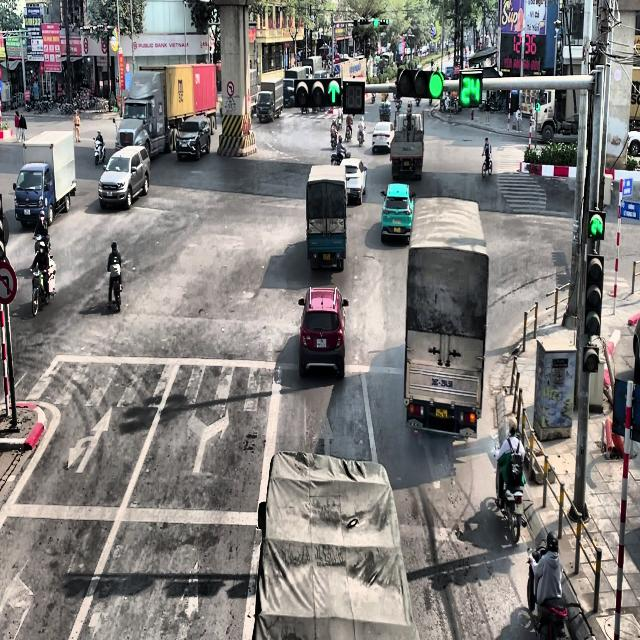lisence_plate: (434, 406, 448, 419), (315, 336, 327, 350), (512, 501, 524, 515), (321, 251, 332, 263), (394, 226, 402, 235), (402, 146, 412, 152), (404, 160, 409, 167), (380, 136, 384, 140)
